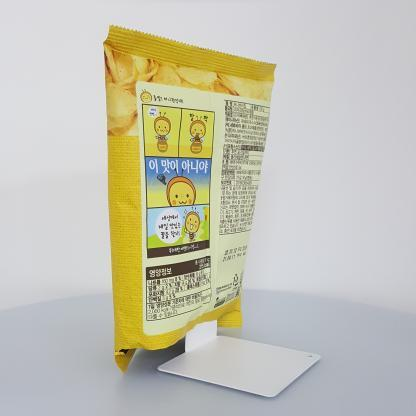Plastic Packaging: (92, 15, 288, 381)
